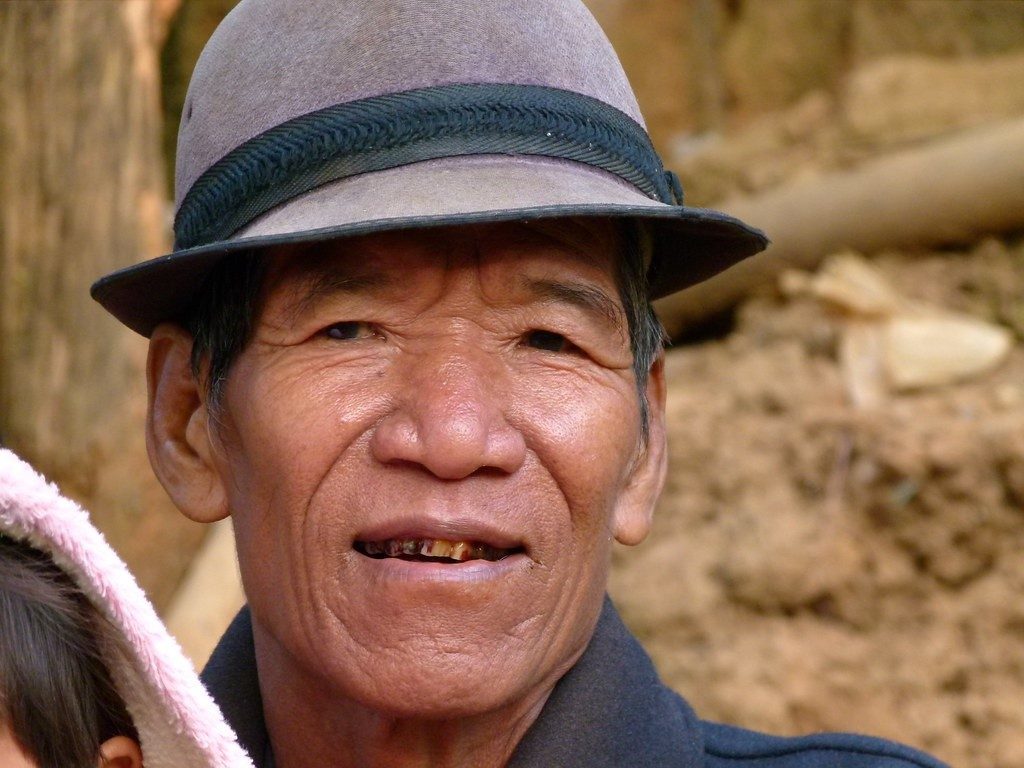face_no_mask: (189, 138, 629, 717)
